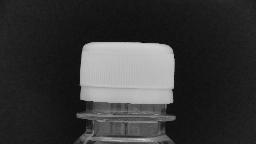Loose Cap: (72, 84, 178, 124)
